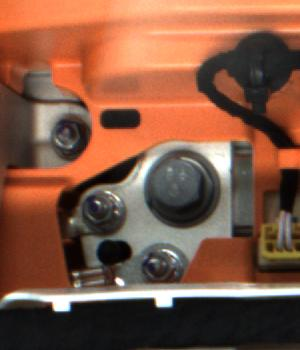nut_b: (142, 141, 229, 236)
screw_s: (78, 188, 120, 226), (49, 114, 84, 158), (139, 248, 175, 285)
